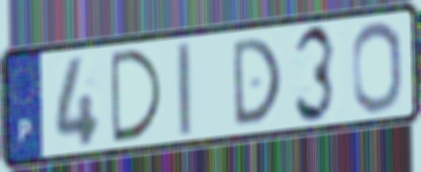3: (290, 22, 345, 126)
4: (52, 53, 102, 150)
D: (107, 46, 166, 146), (230, 34, 284, 130)
I: (173, 39, 194, 140)
O: (349, 18, 405, 116)
